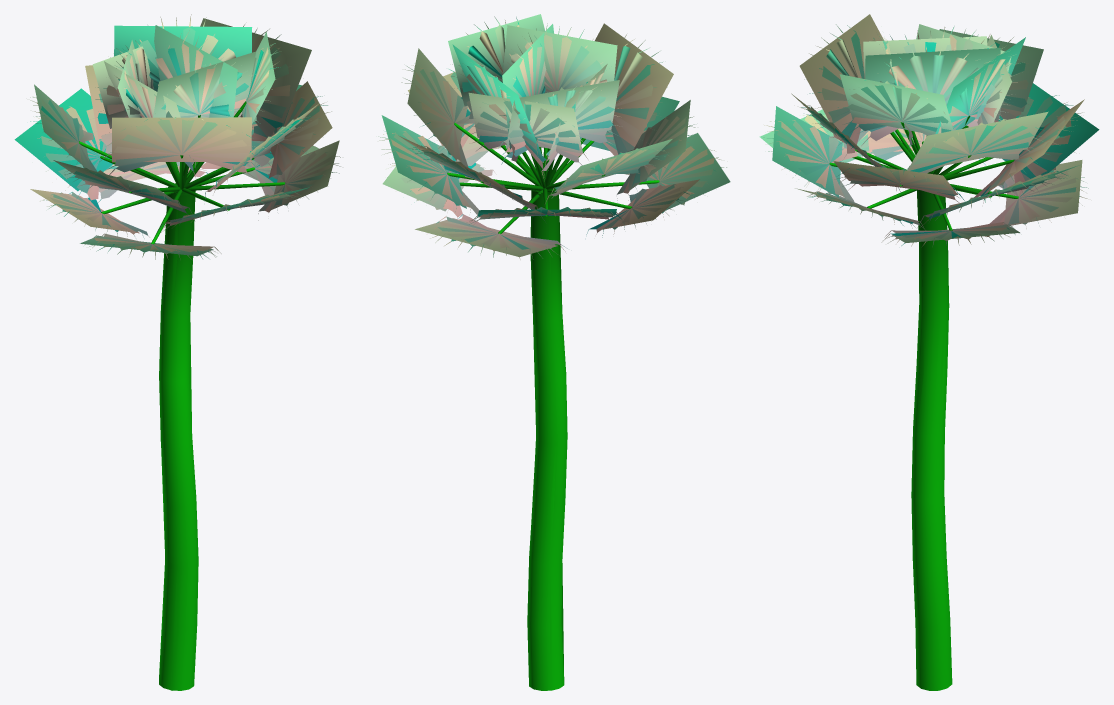
Rendered from fan_palm_1.glb.
The picture shows the model from 3 angles, left to right: view 1: azimuth 30°, elevation 25°; view 2: azimuth 150°, elevation 25°; view 3: azimuth 270°, elevation 25°; orthographic projection.
Visible parts, largest first — view 1: near, mid; view 2: near, mid; view 3: near, mid.
Part boxes in pixels (x1,y1,x2,y2): near: [30, 14, 340, 690]; mid: [14, 18, 339, 690]; near: [378, 16, 726, 690]; mid: [381, 14, 730, 682]; near: [763, 24, 1088, 690]; mid: [759, 14, 1099, 552].
Size of the model in its own units: 4.2 by 8.92 by 4.22.
